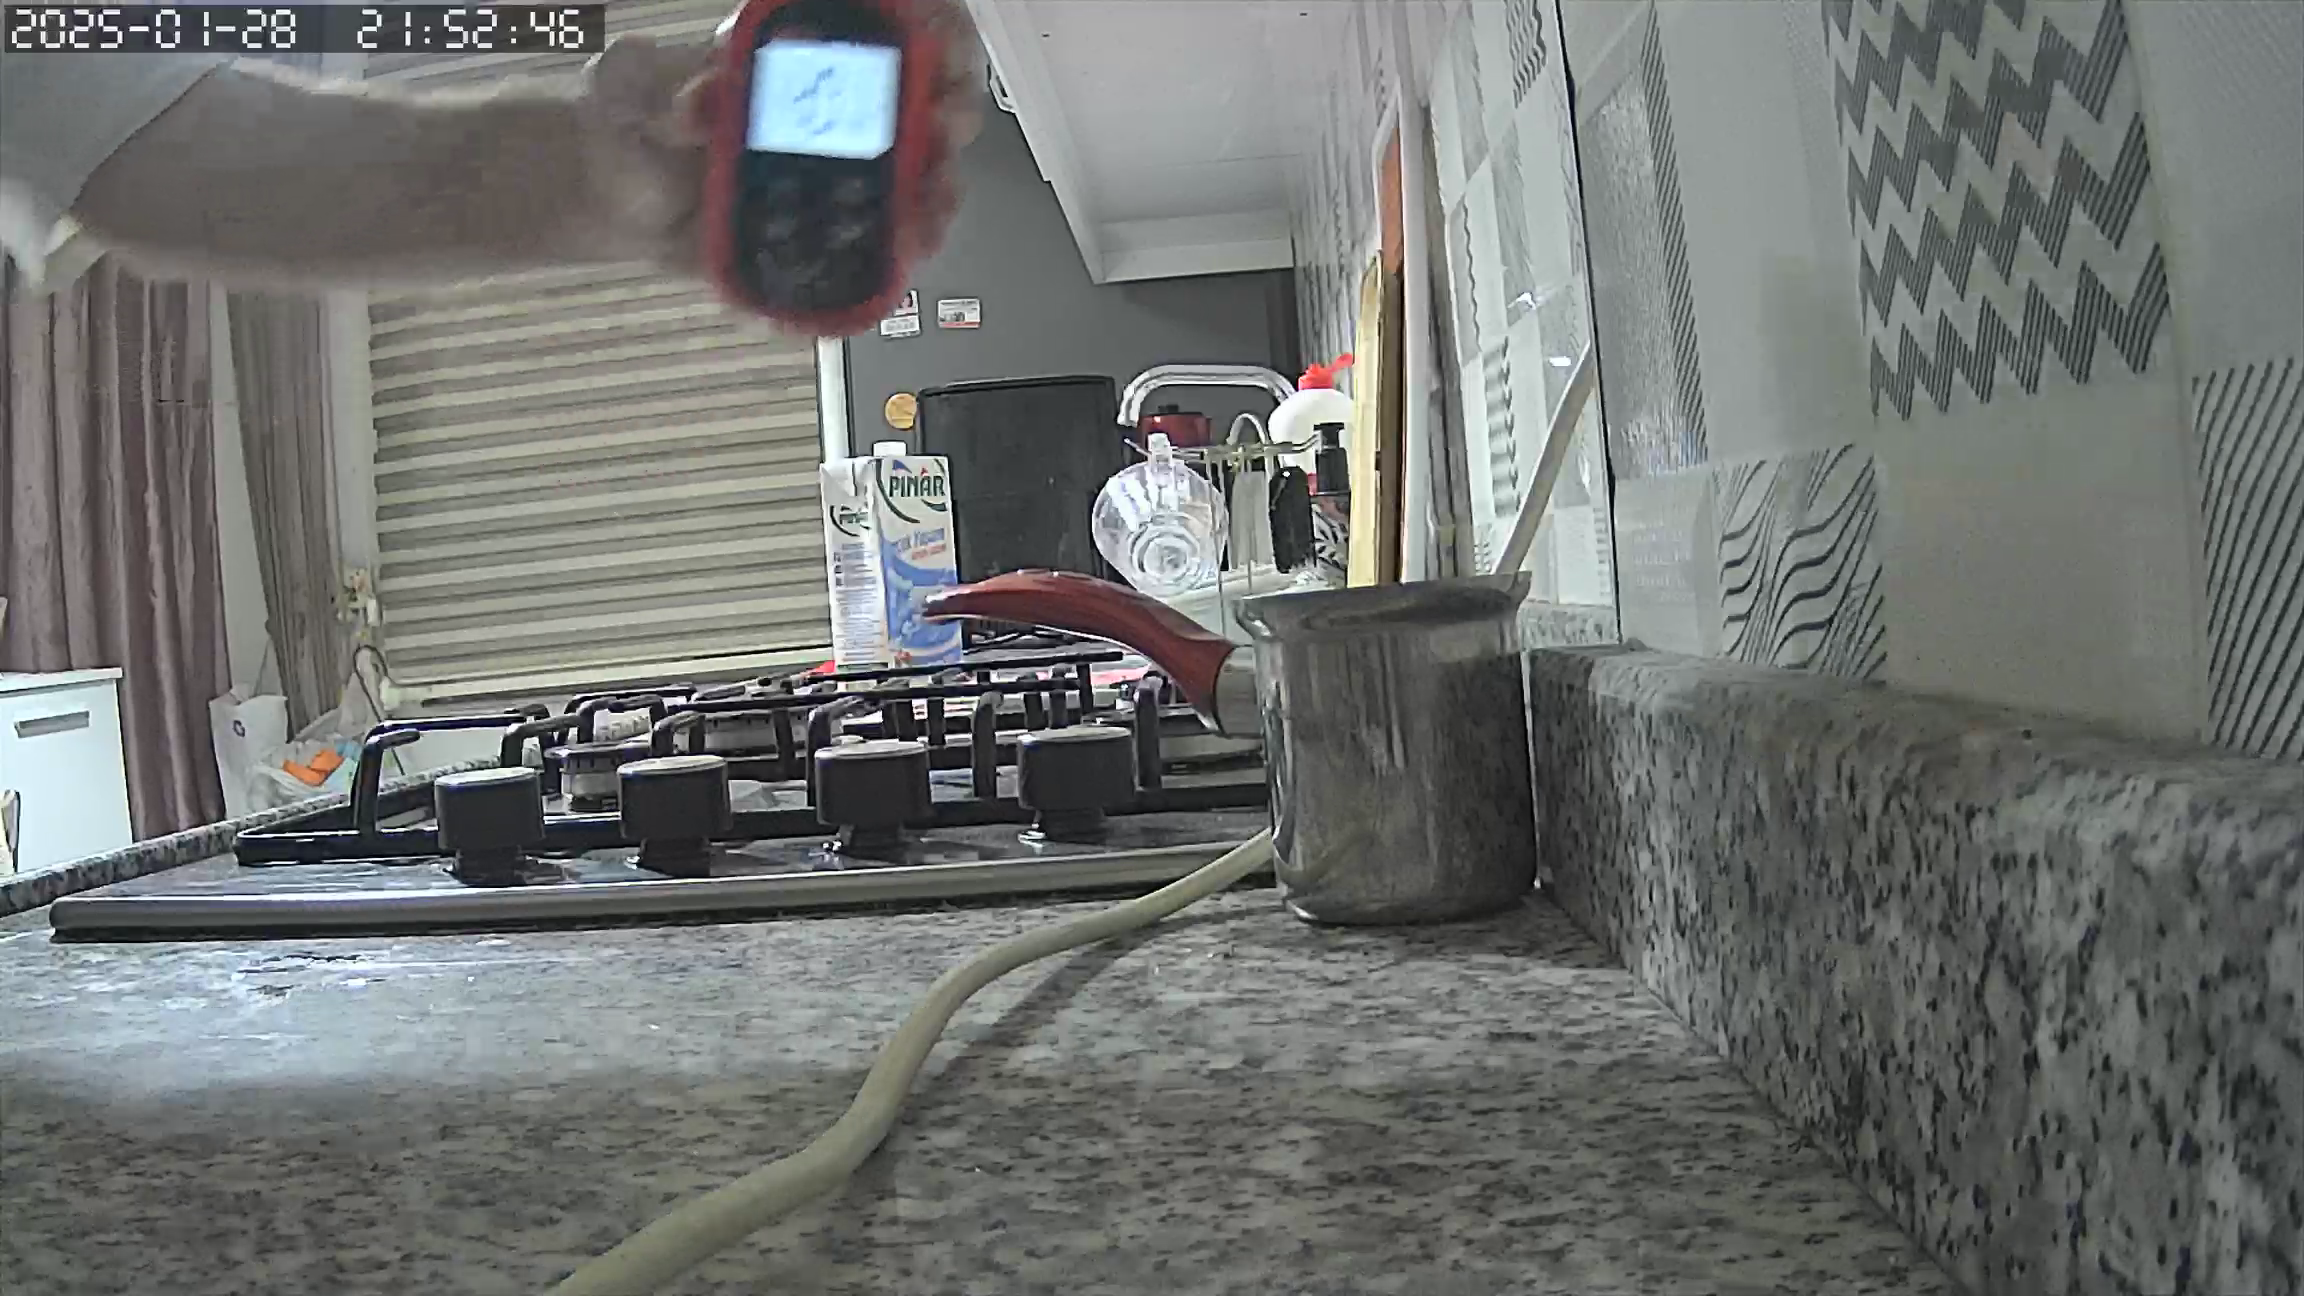screen: (739, 33, 902, 166)
